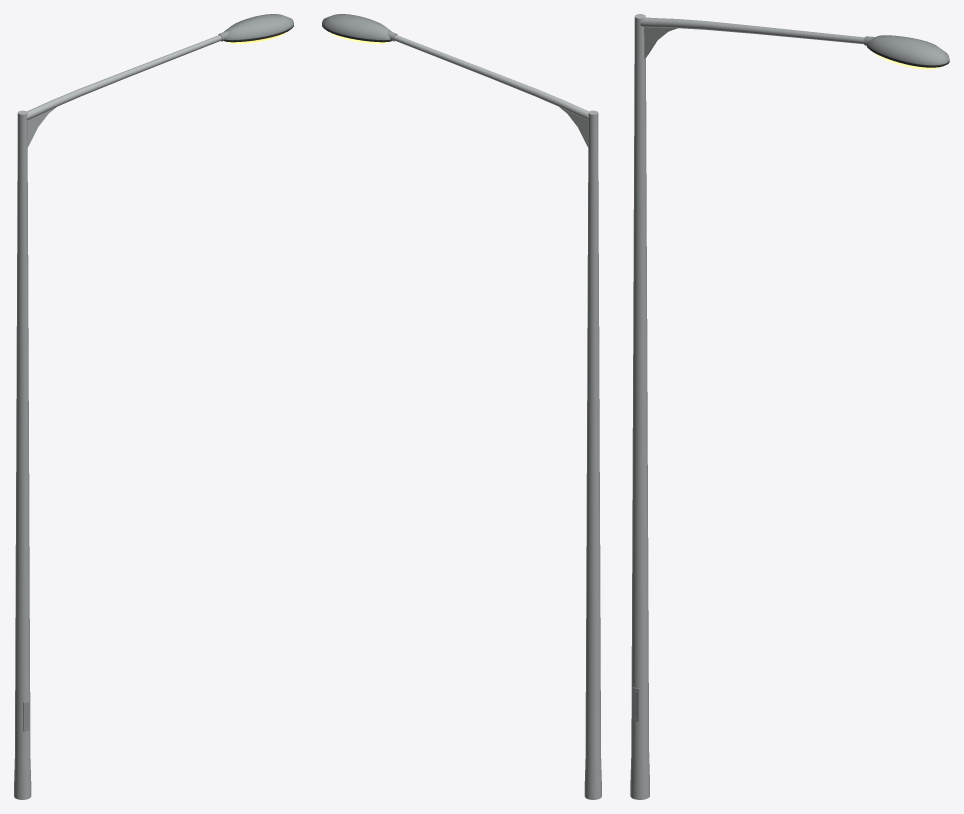
The model's file is Korean_Streetlight_v01.fbx.
3 renders of one model, left to right at view 1: azimuth 30°, elevation 25°; view 2: azimuth 150°, elevation 25°; view 3: azimuth 330°, elevation 25°, orthographic. The views are drawn at different scales.
Parts seen in each view (by area): view 1: SL_Pole, SL_Arm, SL_Luminaire; view 2: SL_Pole, SL_Arm, SL_Luminaire; view 3: SL_Pole, SL_Luminaire, SL_Arm.
Part boxes in pixels (x1,y1,x2,y2): SL_Pole: [14, 110, 31, 799]; SL_Arm: [27, 35, 221, 120]; SL_Luminaire: [224, 14, 293, 43]; SL_Pole: [584, 110, 601, 799]; SL_Arm: [394, 35, 588, 120]; SL_Luminaire: [322, 14, 391, 43]; SL_Pole: [630, 14, 649, 799]; SL_Luminaire: [866, 35, 949, 69]; SL_Arm: [640, 17, 864, 44].
Bounding box in the file's own units: 3.41 × 8.45 × 0.3756.
1 material, 1 textured.
